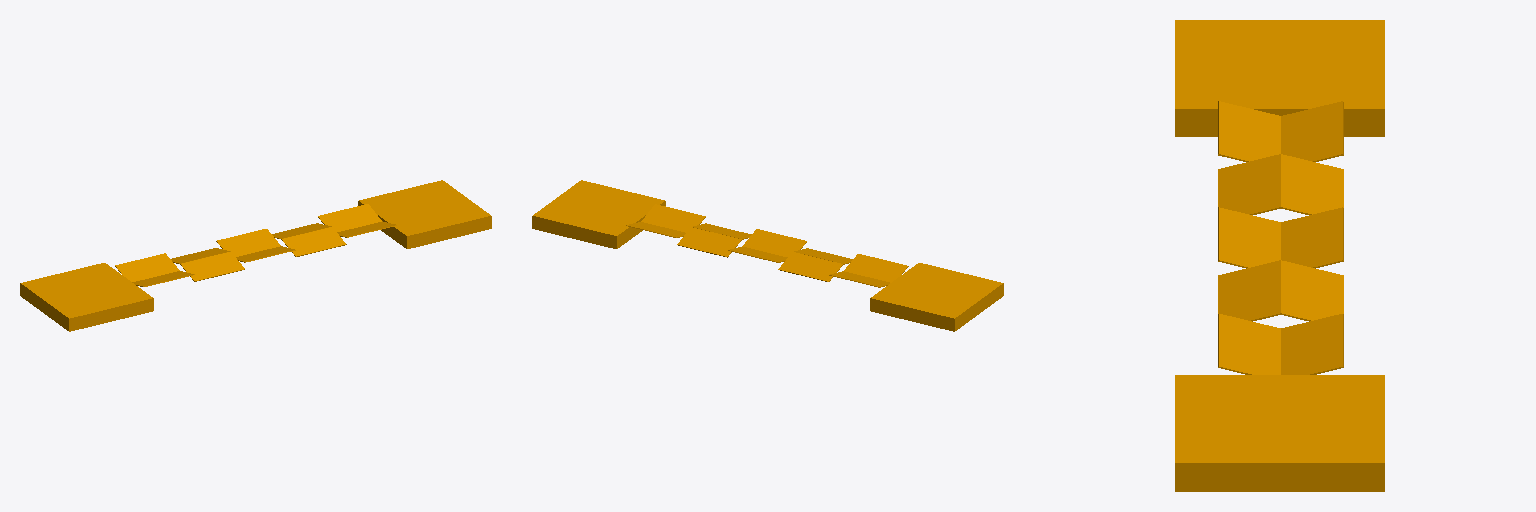
The robot description file, URDF, robot "antfarm_firstLevel_wall":
<robot name="antfarm_firstLevel_wall">
  <link name="base_link">
    <visual>
      <origin xyz="0 0 0" rpy="0 0 0" />
      <geometry>
        <mesh filename="package://hpp-environments/meshes/multicontact/antfarm_firstLevel.stl"/>
      </geometry>
    </visual>
    <collision>
      <origin xyz="0 0 0" rpy="0 0 0" />
      <geometry>
        <mesh filename="package://hpp-environments/meshes/multicontact/antfarm_firstLevel.stl"/>
      </geometry>
    </collision>
  </link>
</robot>

--- What the picture shows (computed from the rendered views, not written in the file) ---
3 views of the same robot in one strip: view 1: azimuth 30°, elevation 25°; view 2: azimuth 150°, elevation 25°; view 3: azimuth 270°, elevation 25° (orthographic).
Model antfarm_firstLevel_wall with 1 links and 0 joints (none), rooted at base_link, posed all joints at 0.
Links seen in each view (by area): view 1: base_link; view 2: base_link; view 3: base_link.
Boxes of the visible links, left/top/right/bottom form: base_link: left=20, top=180, right=491, bottom=331; base_link: left=532, top=180, right=1003, bottom=331; base_link: left=1175, top=20, right=1384, bottom=491.
Bounding box of the posed robot: 10 × 2 × 0.3885 m (x, y, z).
Meshes: 1 distinct files referenced, 1 mesh visuals loaded (1 binary STL).